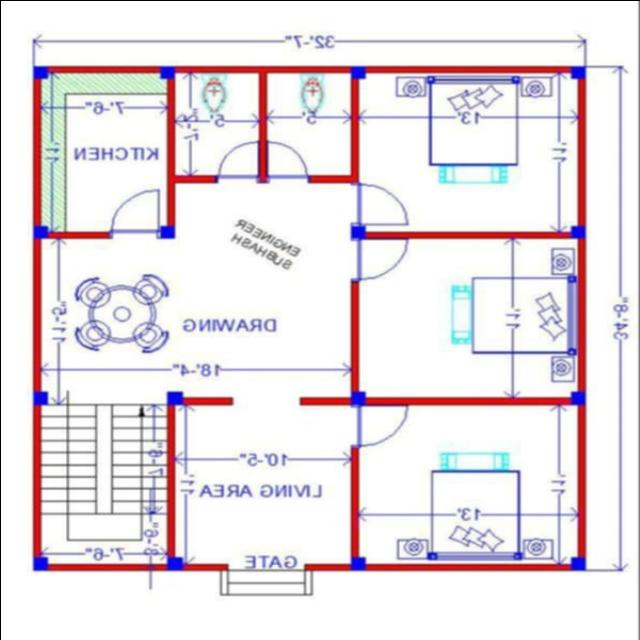column: (342, 386, 372, 411), (342, 59, 370, 85), (160, 384, 187, 408), (26, 552, 53, 576), (152, 221, 180, 244), (346, 220, 374, 243), (563, 220, 592, 242), (566, 60, 592, 84), (154, 60, 180, 83), (26, 59, 52, 82), (28, 220, 54, 242), (566, 552, 592, 574), (160, 552, 188, 572), (566, 387, 591, 409), (28, 387, 54, 408), (344, 554, 370, 575)
